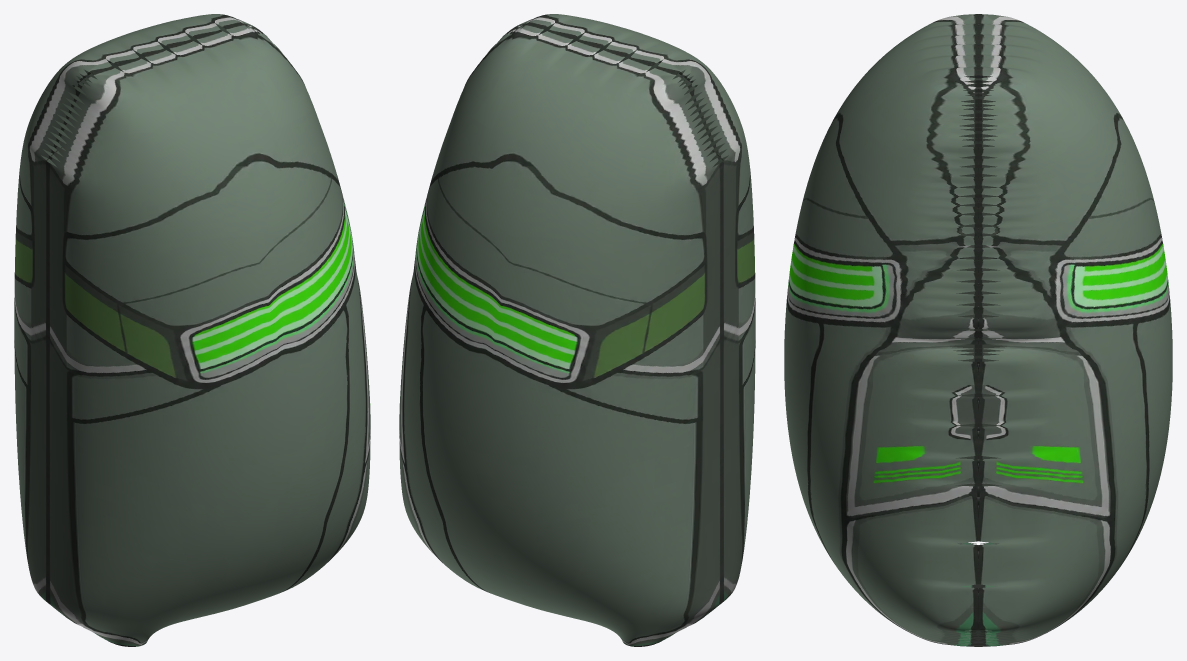
The model's file is side_bulkhead.glb.
3 views of the same model, side by side, from view 1: azimuth 30°, elevation 25°; view 2: azimuth 150°, elevation 25°; view 3: azimuth 270°, elevation 25° (orthographic).
Visible parts, largest first — view 1: side_bulkhead; view 2: side_bulkhead; view 3: side_bulkhead.
Boxes of the visible parts, left/top/right/bottom form: side_bulkhead: left=14, top=14, right=370, bottom=646; side_bulkhead: left=399, top=14, right=755, bottom=646; side_bulkhead: left=784, top=14, right=1172, bottom=646.
Bounding box in the file's own units: 0.9803 × 1.77 × 1.1.
1 material, 1 textured.
